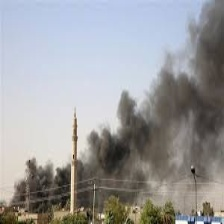smoke: (54, 29, 224, 191)
